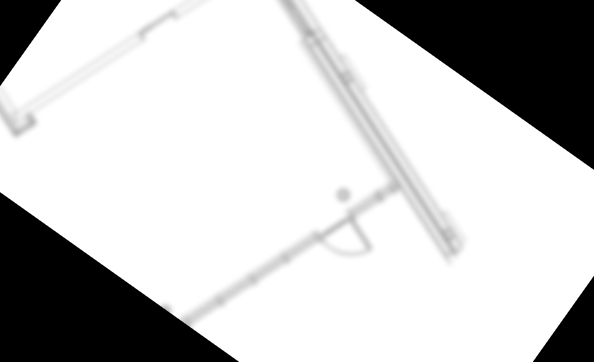door: (315, 205, 383, 271)
window: (130, 0, 183, 55)
